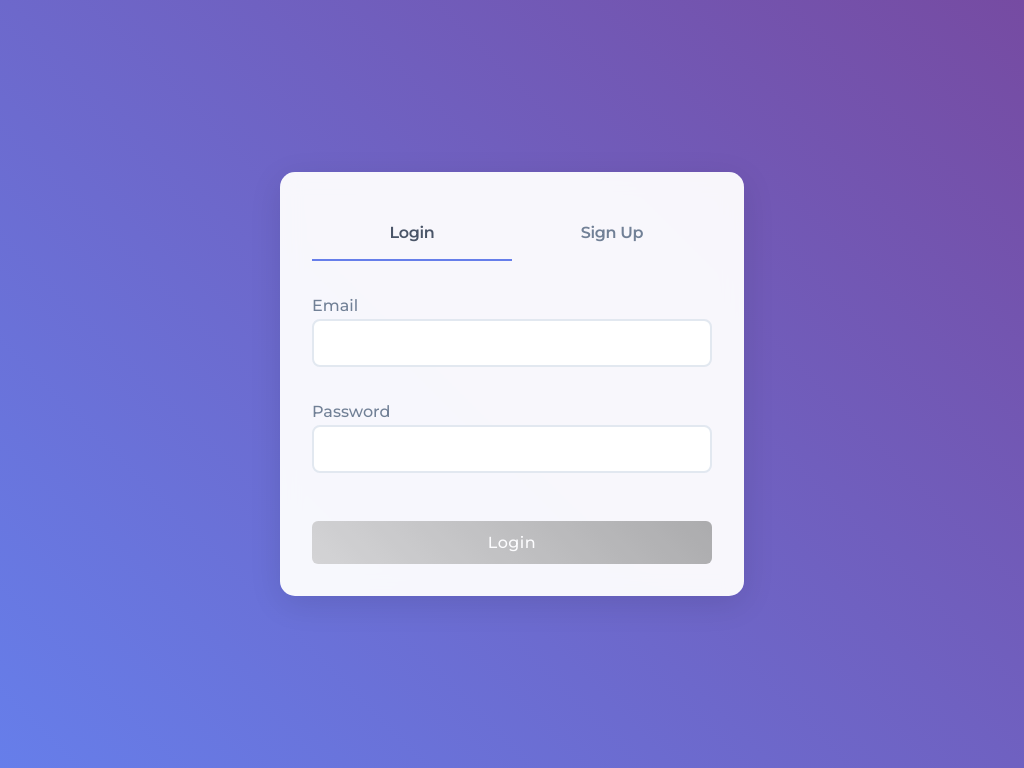
Test: Authentication Page › shows an error if password and confirm password do not match on sign up
Click the link "Sign Up".
click(613, 233)  # box 581,223 -> 644,242
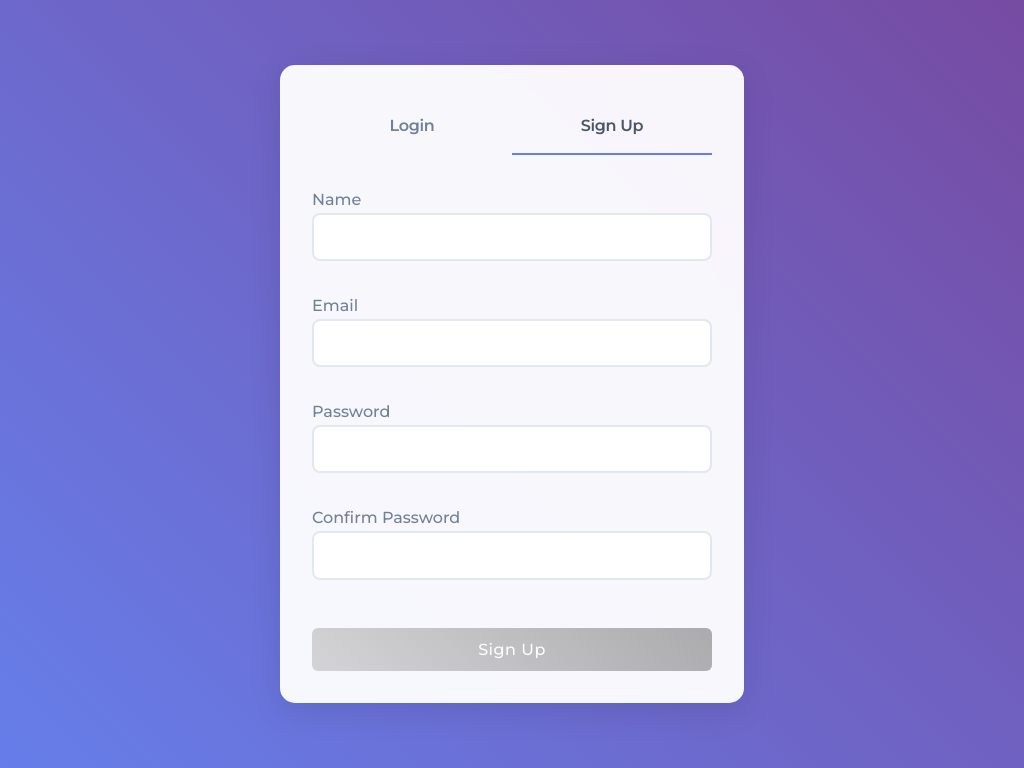
Type "Test User" into the field labelled "Name".
click(512, 238); type("Test User")  # box 312,213 -> 712,262
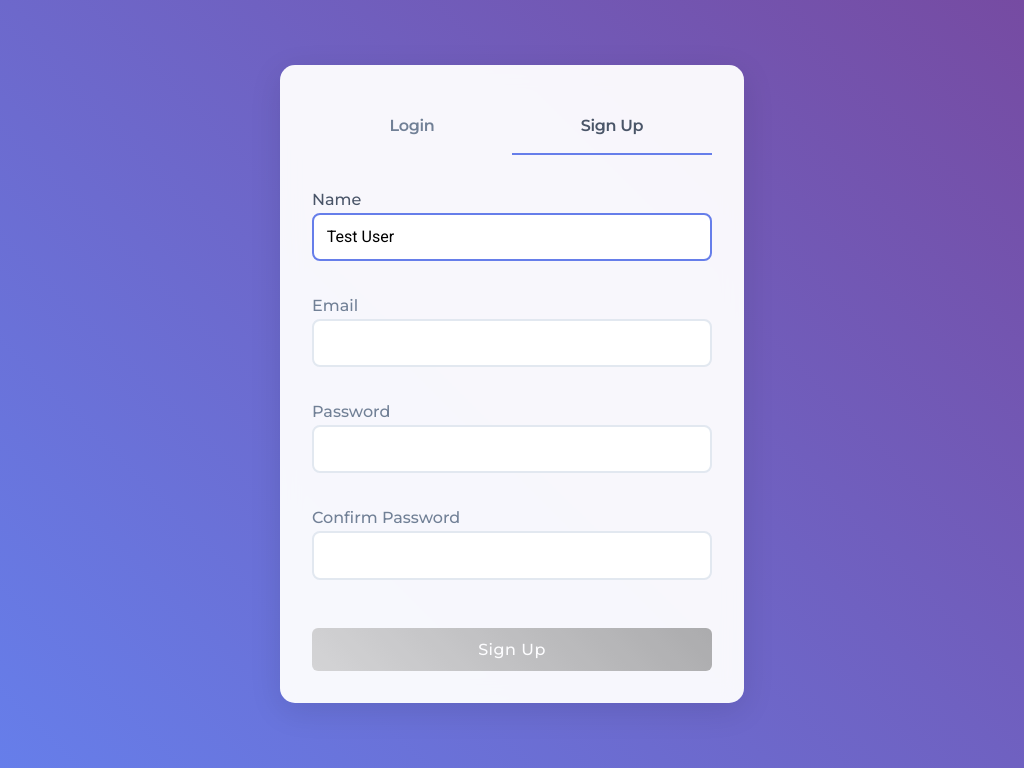
Type "test@ufl.edu" into the field labelled "Email".
click(512, 344); type("test@ufl.edu")  # box 312,319 -> 712,368
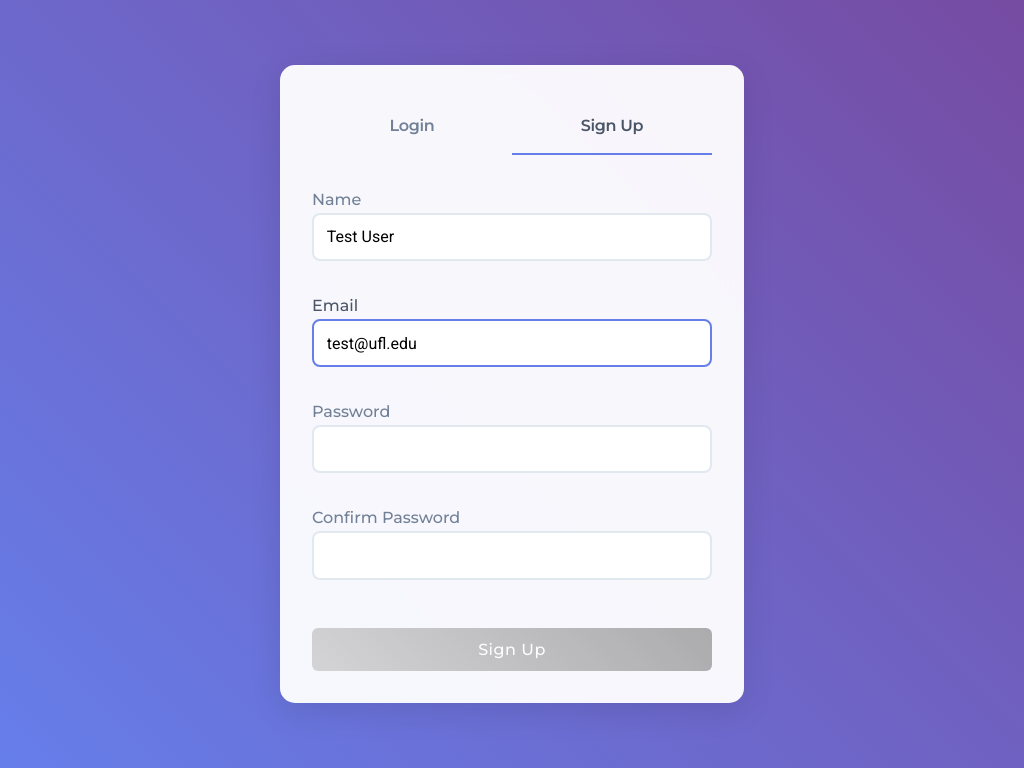
Type "password123" into the password field labelled "Password".
click(512, 450); type("password123")  # box 312,425 -> 712,474
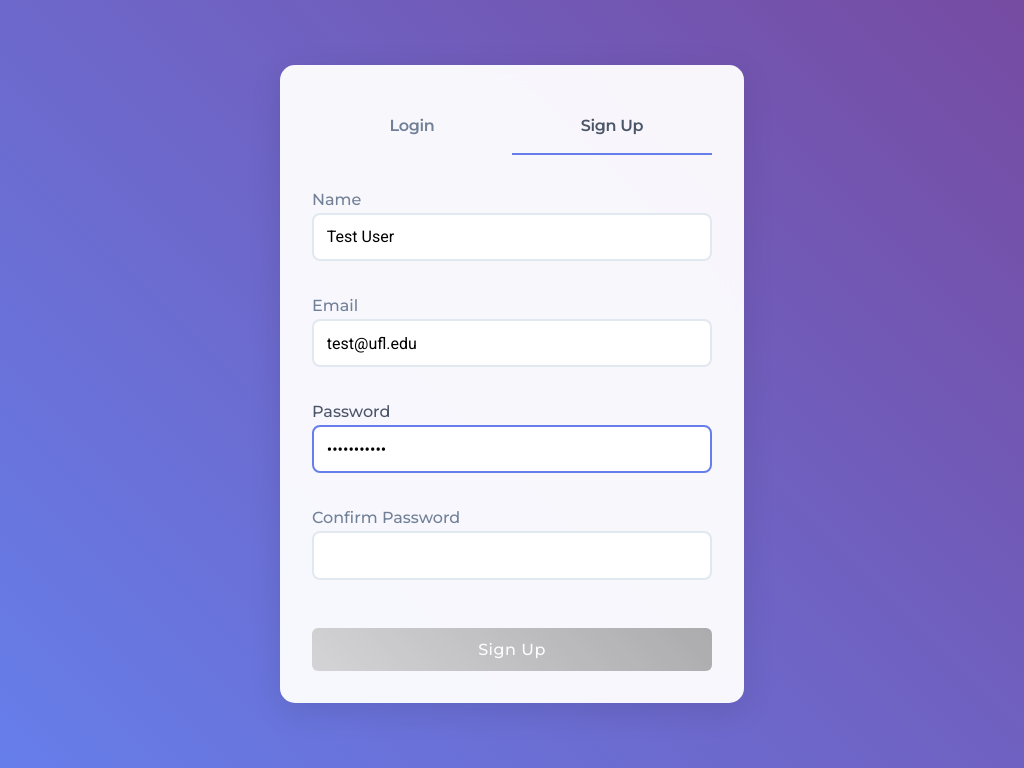
Type "differentPassword" into the password field labelled "Confirm Password".
click(512, 556); type("differentPassword")  # box 312,531 -> 712,580
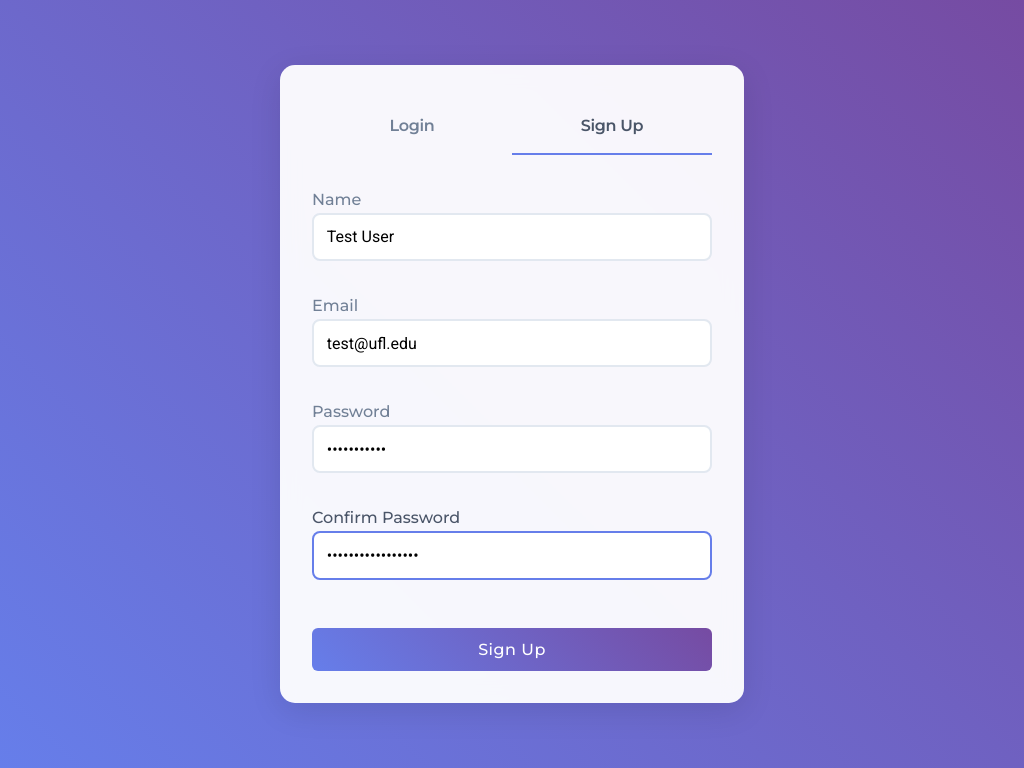
Click the button with class "submit-btn".
click(512, 650)  # box 312,628 -> 712,671
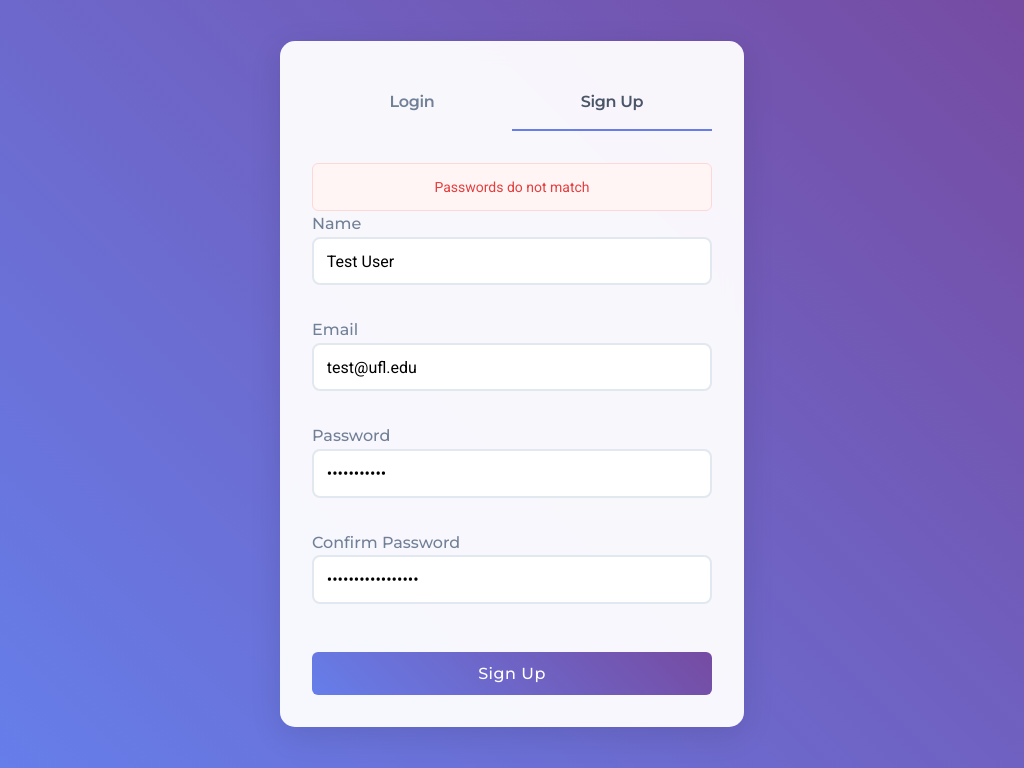
Expected: the text with class "error-message" reads "Passwords do not match", 434,179 -> 589,195
